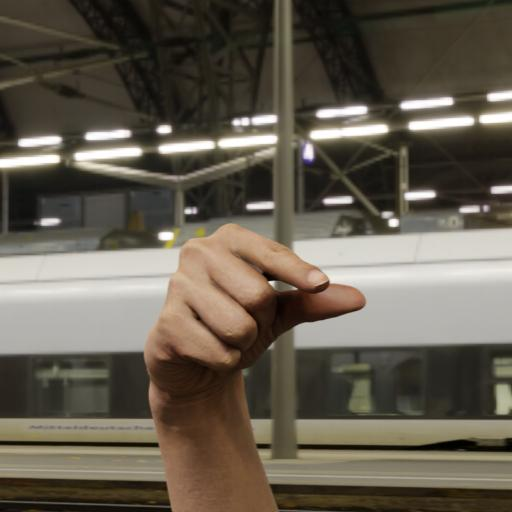G: (119, 203, 379, 415)
